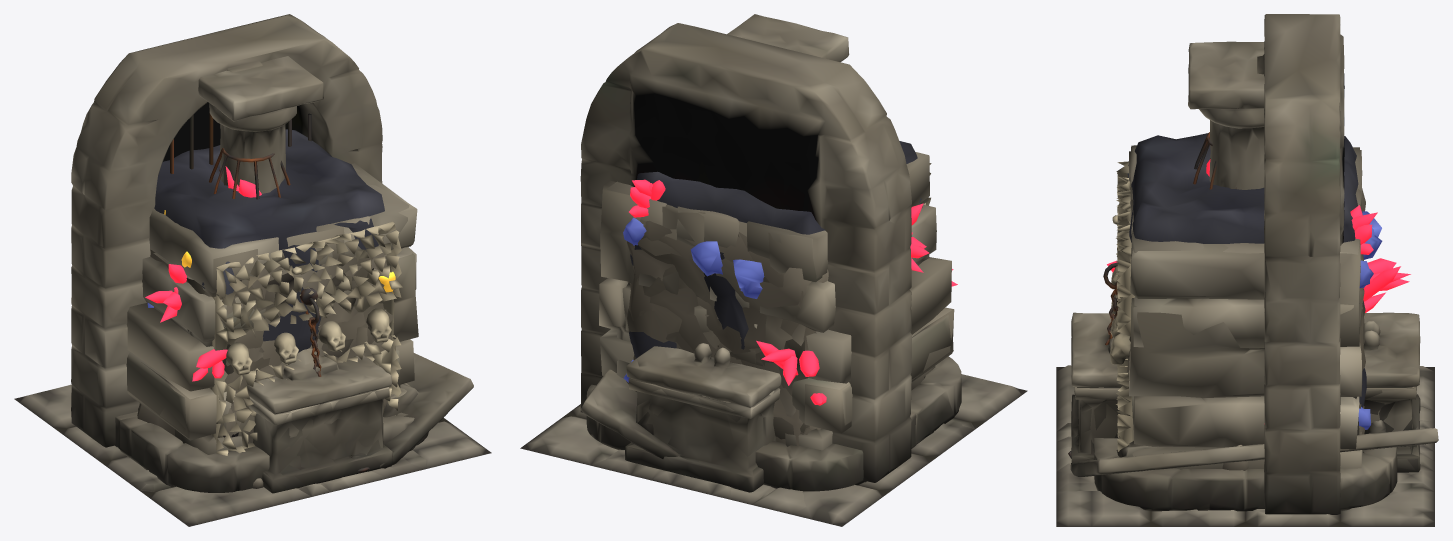
Rendered from bioma_catacumbas.glb.
3 views of the same model, side by side, from view 1: azimuth 30°, elevation 25°; view 2: azimuth 150°, elevation 25°; view 3: azimuth 270°, elevation 25° (orthographic). The views are drawn at different scales.
Parts seen in each view (by area): view 1: deco_reja_cripta_malla, pared_blanda_b_malla, pared_borde_malla, pared_dura_b_malla, deco_sarcofago_malla, pared_dura_a_malla, deco_columna_malla, deco_sarcofago_abierto_malla, deco_agua_negra_malla, veta_sangre_malla, piso_e_malla, piso_c_malla (+8 smaller); view 2: deco_reja_cripta_malla, pared_dura_a_malla, pared_dura_b_malla, deco_sarcofago_malla, deco_sarcofago_abierto_malla, deco_agua_negra_malla, veta_sangre_malla, pared_borde_malla, piso_a_malla, veta_hierro_malla, pared_blanda_b_malla, deco_columna_malla (+7 smaller); view 3: deco_reja_cripta_malla, pared_dura_a_malla, pared_dura_b_malla, pared_borde_malla, deco_sarcofago_malla, deco_agua_negra_malla, deco_columna_malla, deco_sarcofago_abierto_malla, piso_c_malla, piso_a_malla, pared_blanda_b_malla, veta_sangre_malla (+4 smaller).
Part boxes in pixels (x1,y1,x2,y2): deco_reja_cripta_malla: [71, 14, 382, 447]; pared_blanda_b_malla: [138, 221, 402, 455]; pared_borde_malla: [154, 129, 384, 352]; pared_dura_b_malla: [126, 167, 416, 472]; deco_sarcofago_malla: [247, 348, 392, 493]; pared_dura_a_malla: [126, 163, 418, 454]; deco_columna_malla: [198, 56, 323, 193]; deco_sarcofago_abierto_malla: [249, 353, 473, 493]; deco_agua_negra_malla: [115, 411, 428, 492]; veta_sangre_malla: [137, 166, 383, 435]; piso_e_malla: [20, 403, 439, 524]; piso_c_malla: [14, 397, 491, 526]; deco_reja_cripta_malla: [580, 23, 911, 482]; pared_dura_a_malla: [599, 180, 954, 450]; pared_dura_b_malla: [600, 152, 953, 425]; deco_sarcofago_malla: [625, 343, 781, 491]; deco_sarcofago_abierto_malla: [580, 369, 780, 492]; deco_agua_negra_malla: [586, 356, 961, 491]; veta_sangre_malla: [626, 179, 957, 434]; pared_borde_malla: [629, 141, 921, 358]; piso_a_malla: [526, 416, 973, 524]; veta_hierro_malla: [623, 217, 828, 434]; pared_blanda_b_malla: [629, 163, 931, 445]; deco_columna_malla: [727, 14, 849, 62]; deco_reja_cripta_malla: [1257, 14, 1344, 514]; pared_dura_a_malla: [1129, 150, 1362, 469]; pared_dura_b_malla: [1068, 145, 1362, 458]; pared_borde_malla: [1127, 133, 1366, 407]; deco_sarcofago_malla: [1071, 312, 1420, 472]; deco_agua_negra_malla: [1094, 438, 1397, 511]; deco_columna_malla: [1188, 41, 1264, 189]; deco_sarcofago_abierto_malla: [1070, 387, 1438, 476]; piso_c_malla: [1056, 367, 1434, 526]; piso_a_malla: [1151, 381, 1434, 526]; pared_blanda_b_malla: [1110, 161, 1365, 454]; veta_sangre_malla: [1107, 159, 1410, 434].
Size of the model in its own units: 2.01 by 2.34 by 2.02.
